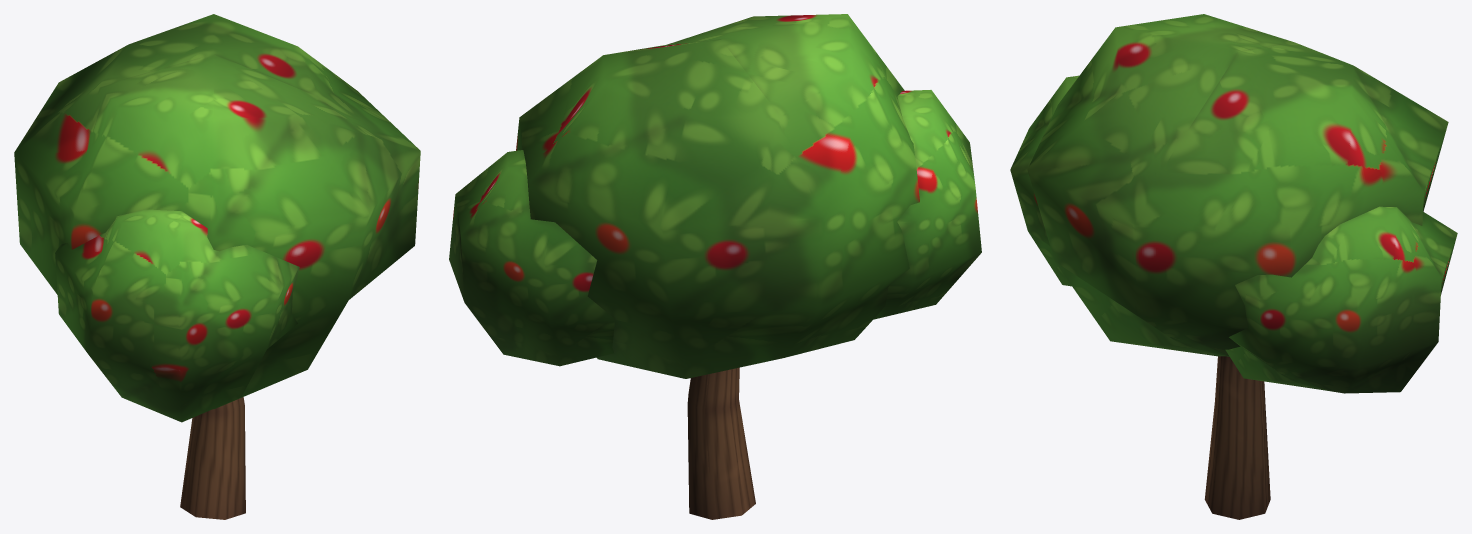
File: apple_tree.obj
The picture shows the model from 3 angles, left to right: view 1: azimuth 30°, elevation 25°; view 2: azimuth 150°, elevation 25°; view 3: azimuth 270°, elevation 25°; orthographic projection. The views are drawn at different scales.
Parts seen in each view (by area): view 1: AppleTree; view 2: AppleTree; view 3: AppleTree.
Boxes of the visible parts, box(x1,y1,x2,y2) form: AppleTree: box(14, 14, 420, 519); AppleTree: box(449, 14, 981, 519); AppleTree: box(1010, 14, 1457, 519).
Bounding box in the file's own units: 4 × 4.43 × 3.97.
Materials: 1 (1 with a texture image).
